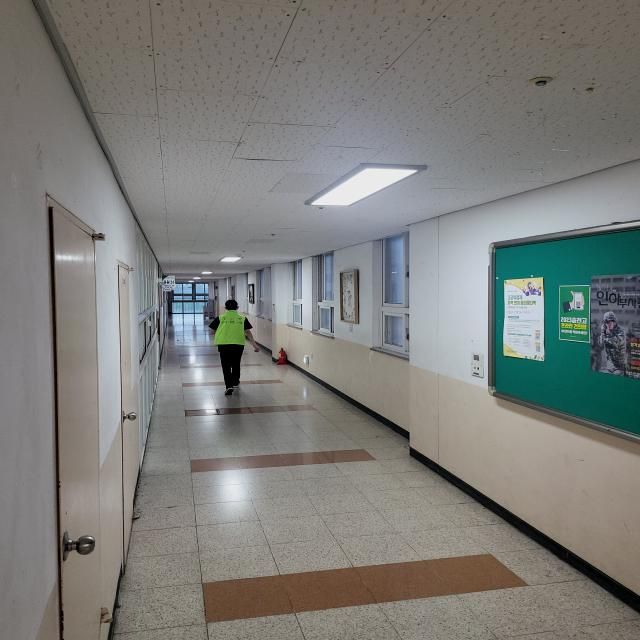weston_spy: (207, 299, 256, 354)
